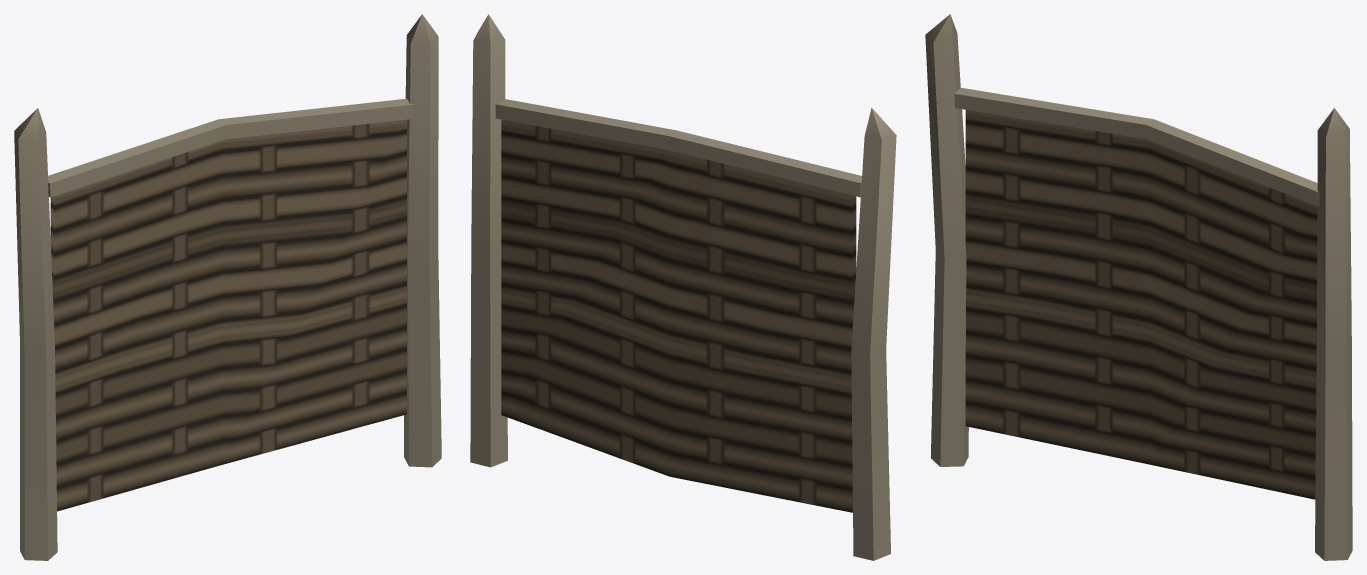
The model's file is HurdleEnd.fbx.
The picture shows the model from 3 angles, left to right: view 1: azimuth 30°, elevation 25°; view 2: azimuth 150°, elevation 25°; view 3: azimuth 330°, elevation 25°; orthographic projection.
Visible parts, largest first — view 1: HurdleEnd; view 2: HurdleEnd; view 3: HurdleEnd.
Part boxes in pixels (x1,y1,x2,y2): HurdleEnd: (14,14,441,560); HurdleEnd: (470,14,896,560); HurdleEnd: (925,14,1352,560).
Bounding box in the file's own units: 1.1 × 1.11 × 0.0977.
